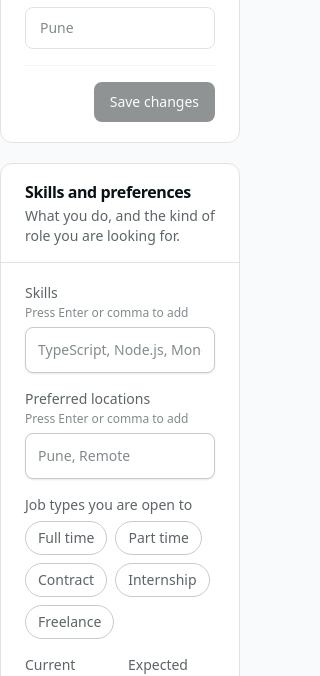
Scenario: ProfilePage — candidate › adds a skill through the chips control
(page scrolled)
Step 1. Type "TypeScript" into the field labelled "Skills" → [120, 350], box [34, 336, 206, 364]
Then press Enter
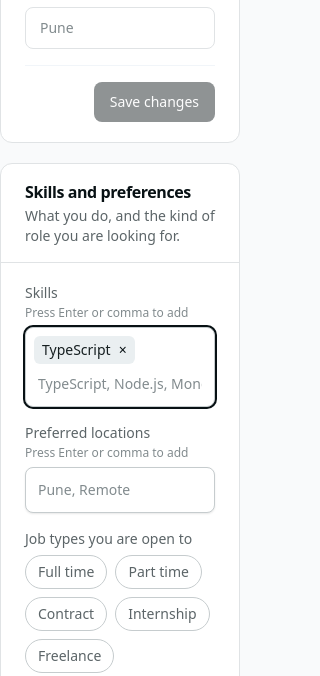
expect the button named "Remove TypeScript" is shown: met, box [115, 340, 131, 360]
